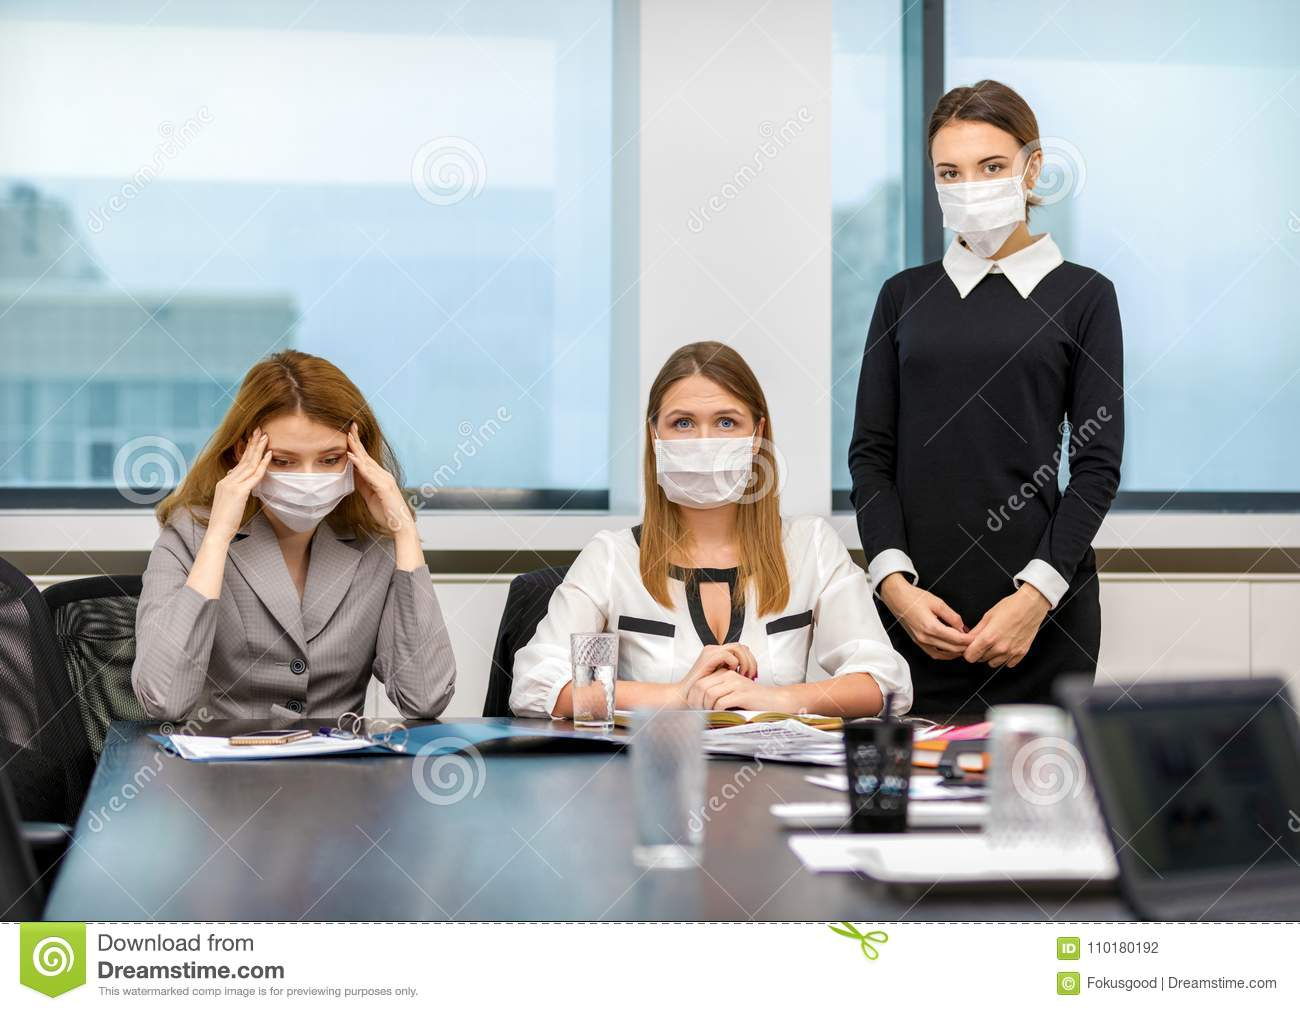mask: (648, 431, 766, 522), (938, 176, 1029, 255), (254, 472, 358, 536)
